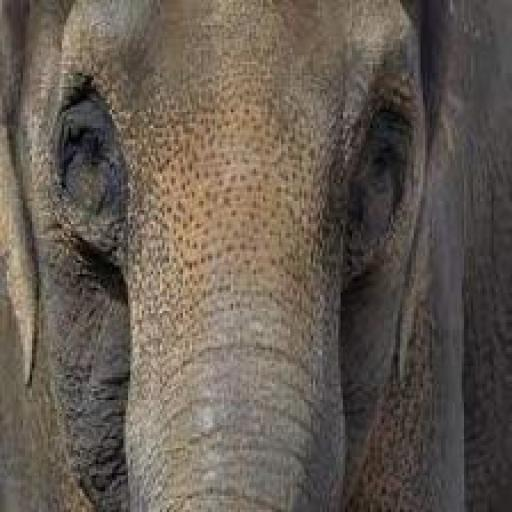Elephant: (2, 11, 512, 512)
